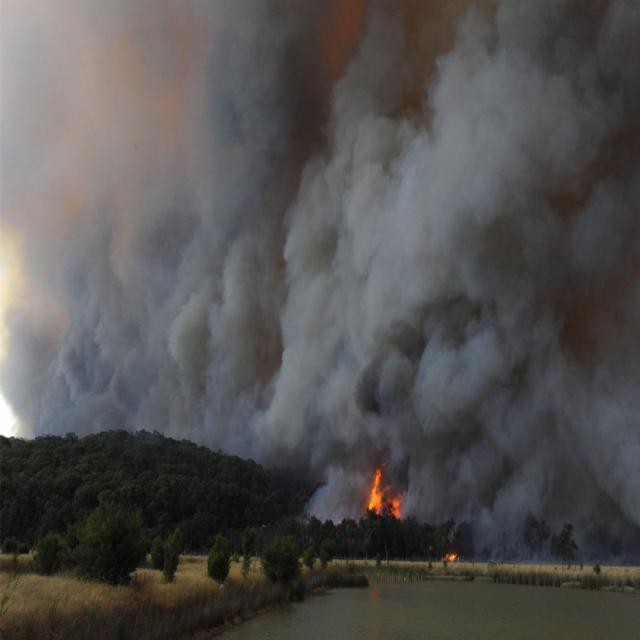Fire: (360, 456, 411, 540)
Smoke: (414, 1, 638, 312), (413, 312, 638, 550), (0, 225, 211, 448), (208, 0, 414, 225), (212, 225, 413, 453), (0, 0, 205, 223)
